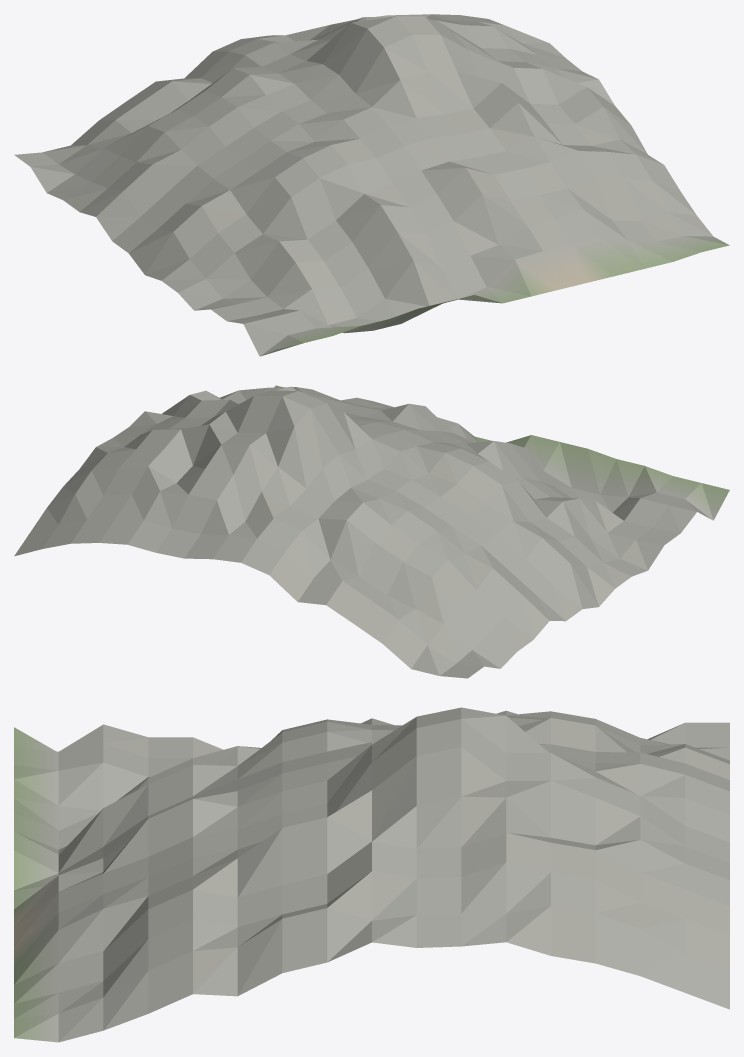
3 views of the same model, one above another, from view 1: azimuth 30°, elevation 25°; view 2: azimuth 150°, elevation 25°; view 3: azimuth 270°, elevation 25° (orthographic). The views are drawn at different scales.
Bounding box in the file's own units: 32 × 11.16 × 32.
